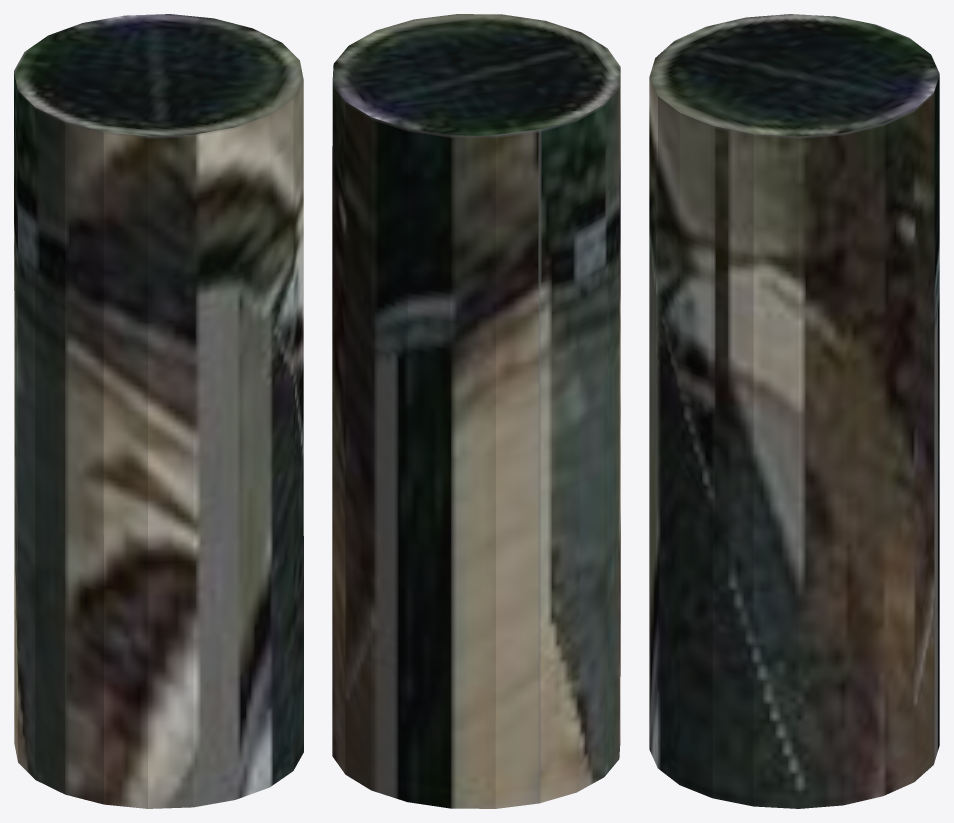
File: Buildings_subset_4.dae
3 renders of one model, left to right at view 1: azimuth 30°, elevation 25°; view 2: azimuth 150°, elevation 25°; view 3: azimuth 270°, elevation 25°, orthographic.
Parts seen in each view (by area): view 1: Buildings_subset_4.dae (×11); view 2: Buildings_subset_4.dae (×11); view 3: Buildings_subset_4.dae (×11).
Part boxes in pixels (<box>): Buildings_subset_4.dae (×11): <box>14,14,303,808</box>; Buildings_subset_4.dae (×11): <box>332,14,620,808</box>; Buildings_subset_4.dae (×11): <box>649,14,939,808</box>.
Bounding box in the file's own units: 15.09 × 15.08 × 38.54.
Materials: 1 (1 with a texture image).
